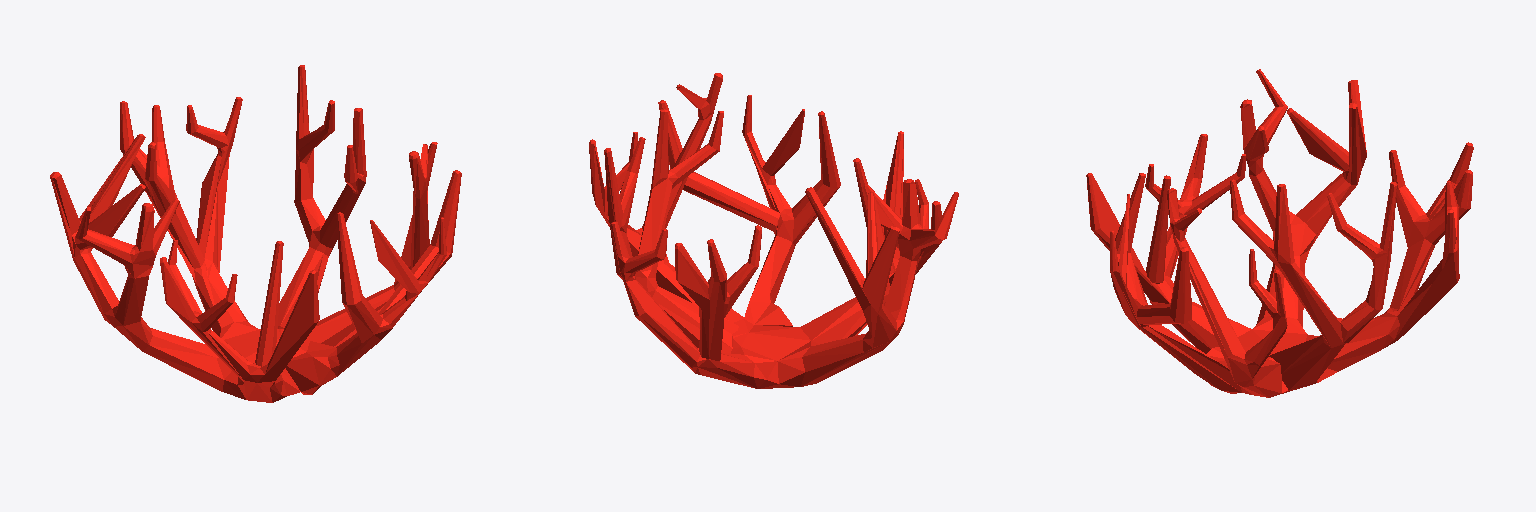
The picture shows the model from 3 angles: view 1: azimuth 30°, elevation 25°; view 2: azimuth 150°, elevation 25°; view 3: azimuth 270°, elevation 25°; orthographic projection.
Visible parts, largest first — view 1: Plane; view 2: Plane; view 3: Plane.
Boxes of the visible parts, x1=… form: Plane: x1=50, y1=65, x2=461, y2=402; Plane: x1=589, y1=73, x2=958, y2=388; Plane: x1=1086, y1=69, x2=1473, y2=397.
Bounding box in the file's own units: 4.45 × 2.93 × 4.15.
1 materials, 1 textured.